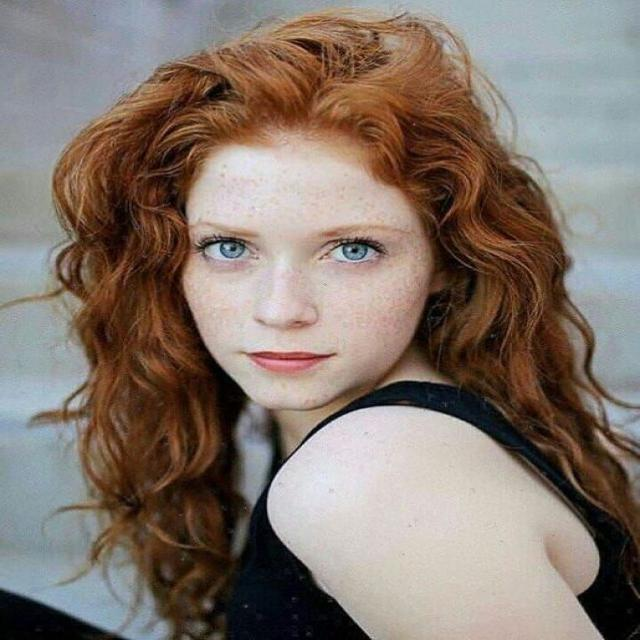Nonhelmet: (81, 16, 530, 424)
